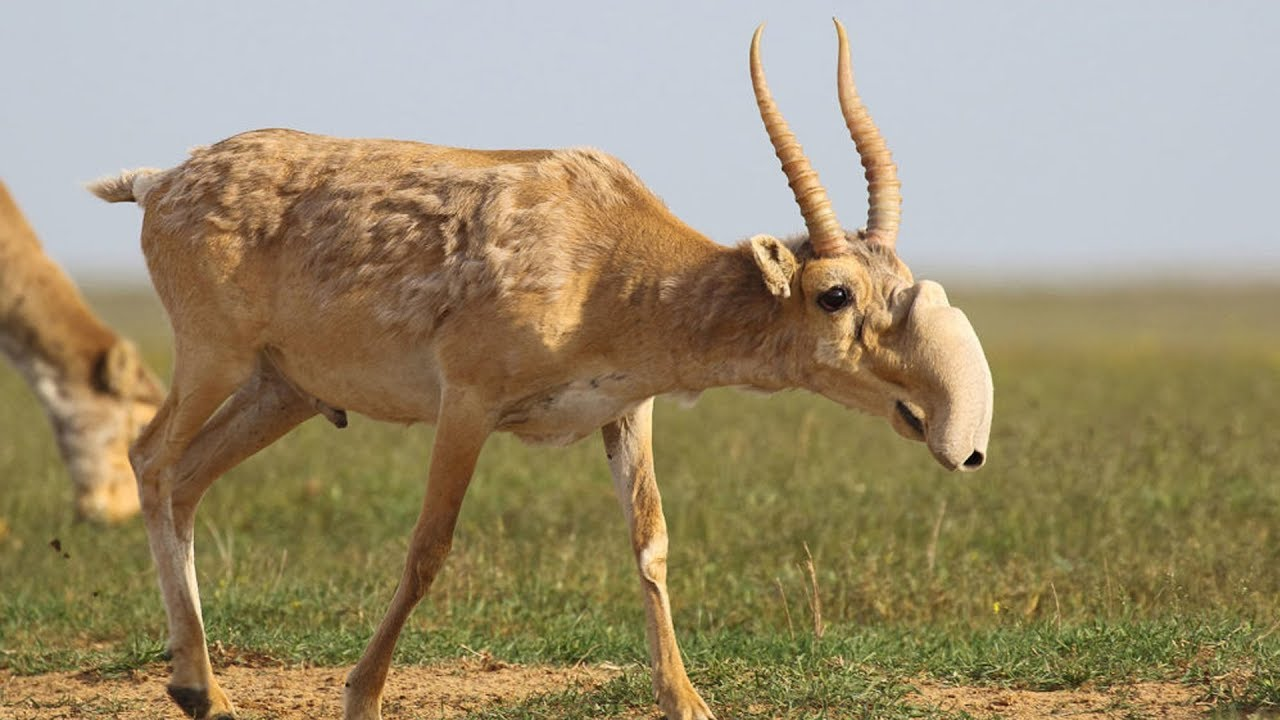saiga: (94, 16, 1001, 720)
